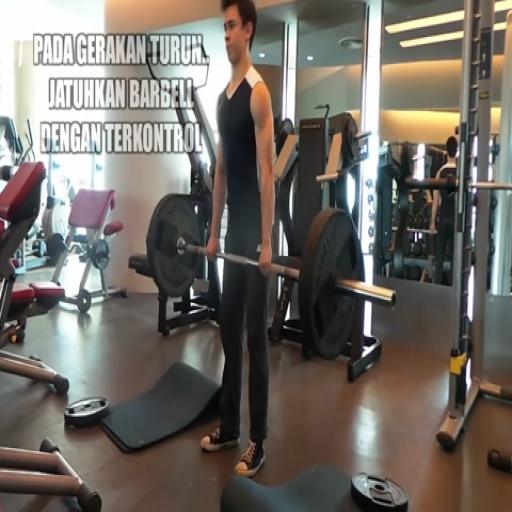exercise: (198, 0, 278, 481)
